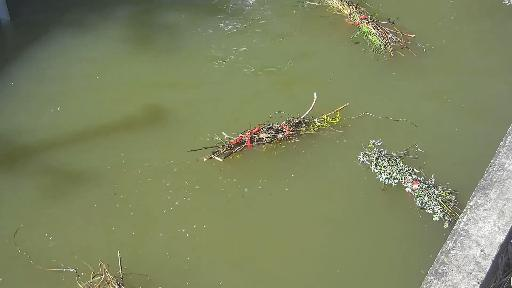twig: (205, 94, 395, 158), (360, 128, 483, 222), (315, 0, 448, 72), (3, 242, 154, 288), (496, 0, 512, 8)
